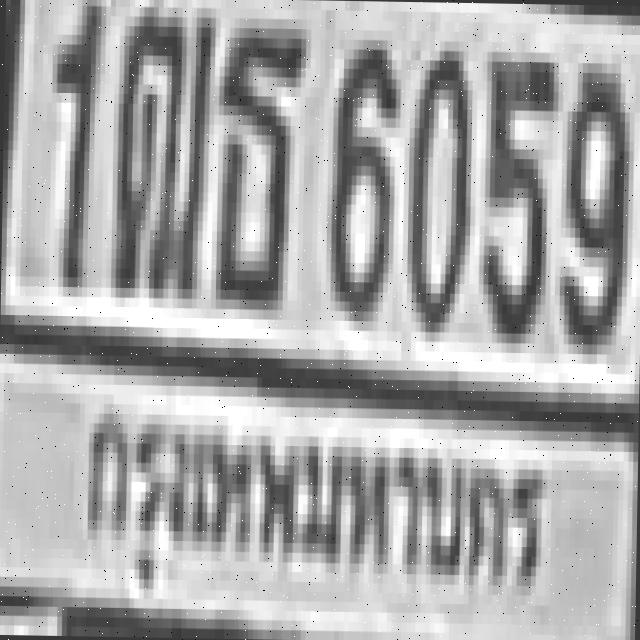0: (401, 40, 468, 322)
1: (50, 0, 98, 267), (1, 0, 20, 265)
27ThorPhuThao: (106, 6, 210, 289)
33ThorThong: (210, 18, 302, 300)
5: (478, 42, 554, 334)
6: (324, 29, 396, 311)
9: (554, 58, 626, 340)
Bangkok: (62, 382, 550, 612)
